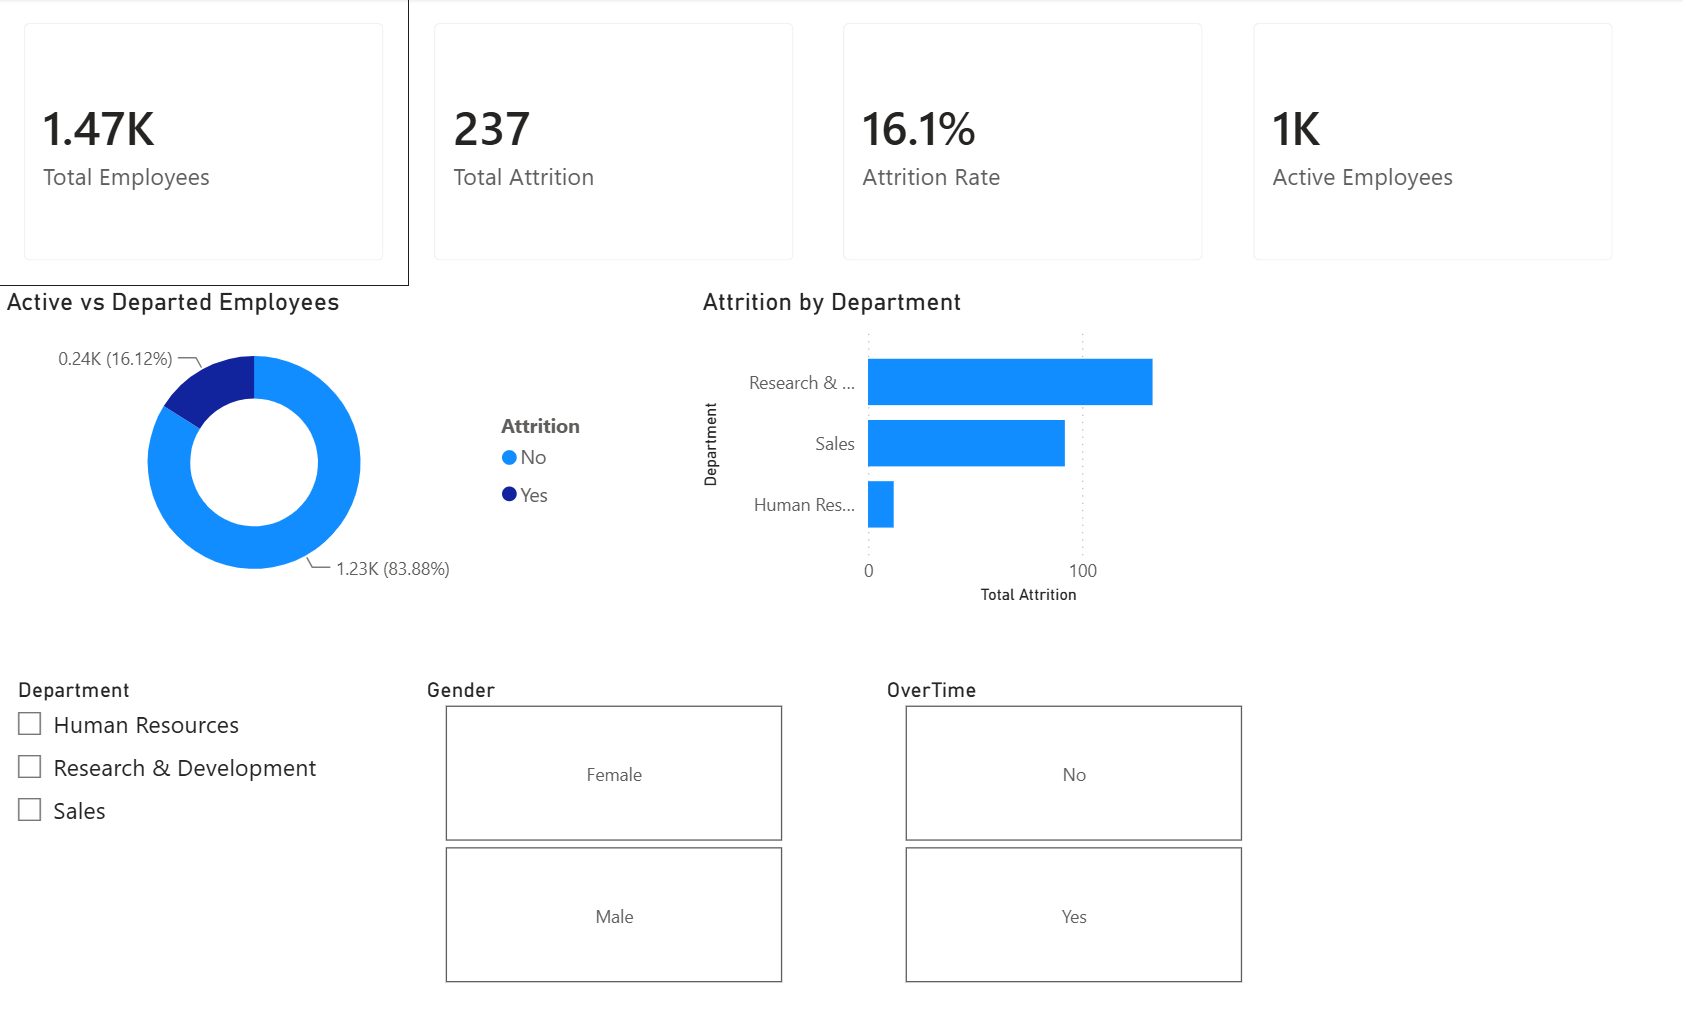

Layout of this report page (visuals, bound fields, positions):
{"tool":"powerbi","page":{"name":"HR Overview","canvas":[1280,720],"ordinal":0},"visuals":[{"type":"cardVisual","fields":{"Data":["HR_Analytics.Total Employees"]},"box":[0,0,279.1,196.5],"z":0},{"type":"cardVisual","fields":{"Data":["HR_Analytics.Active Employees"]},"box":[837.2,0,279.1,196.5],"z":1000},{"type":"cardVisual","fields":{"Data":["HR_Analytics.Total Attrition"]},"box":[279.1,0,279.1,196.5],"z":2000},{"type":"cardVisual","fields":{"Data":["HR_Analytics.Attrition Rate"]},"box":[558.1,0,279.1,196.5],"z":3000},{"type":"donutChart","title":"Active vs Departed Employees","fields":{"Category":["HR_Analytics.Attrition"],"Y":["HR_Analytics.Total Employees"]},"box":[0,196.5,417.9,220.1],"z":4000},{"type":"clusteredBarChart","title":"Attrition by Department","fields":{"Category":["HR_Analytics.Department"],"Y":["HR_Analytics.Total Attrition"]},"box":[474.3,196.5,351.1,220.1],"z":5000},{"type":"slicer","fields":{"Values":["HR_Analytics.Department"]},"box":[0,457,279,220],"z":6000},{"type":"slicer","fields":{"Values":["HR_Analytics.Gender"]},"box":[279,457,279,220],"z":7000},{"type":"slicer","fields":{"Values":["HR_Analytics.OverTime"]},"box":[592.2,457.2,279.1,220.1],"z":8000}]}

Visuals, with their boxes on the page's 1280x720 design canvas (x1, y1, x2, y2). These are canvas units, not pixel positions in the 1683x1016 screenshot, which may show the page scaled, cropped or inside an application window:
cardVisual - HR_Analytics.Total Employees: <box>0,0,279,196</box>
cardVisual - HR_Analytics.Active Employees: <box>837,0,1116,196</box>
cardVisual - HR_Analytics.Total Attrition: <box>279,0,558,196</box>
cardVisual - HR_Analytics.Attrition Rate: <box>558,0,837,196</box>
"Active vs Departed Employees" donutChart: <box>0,196,418,417</box>
"Attrition by Department" clusteredBarChart: <box>474,196,825,417</box>
slicer - HR_Analytics.Department: <box>0,457,279,677</box>
slicer - HR_Analytics.Gender: <box>279,457,558,677</box>
slicer - HR_Analytics.OverTime: <box>592,457,871,677</box>
